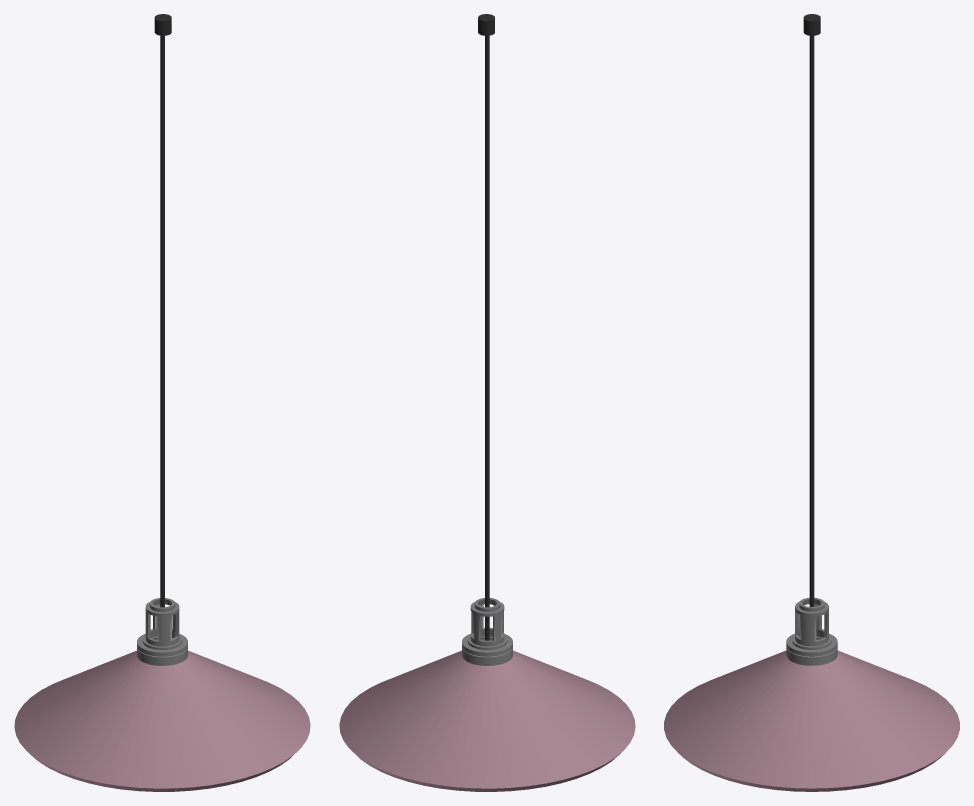
Rendered from CGT_CeilingLight_052.glb.
3 views of the same model, side by side, from view 1: azimuth 30°, elevation 25°; view 2: azimuth 150°, elevation 25°; view 3: azimuth 270°, elevation 25° (orthographic).
Parts seen in each view (by area): view 1: CGT_CeilingLight_052; view 2: CGT_CeilingLight_052; view 3: CGT_CeilingLight_052.
Boxes of the visible parts, x1,y1,x2,y2 form: CGT_CeilingLight_052: (14,14,310,791); CGT_CeilingLight_052: (339,14,635,791); CGT_CeilingLight_052: (664,14,959,791).
Size of the model in its own units: 0.6752 by 1.8 by 0.6739.
